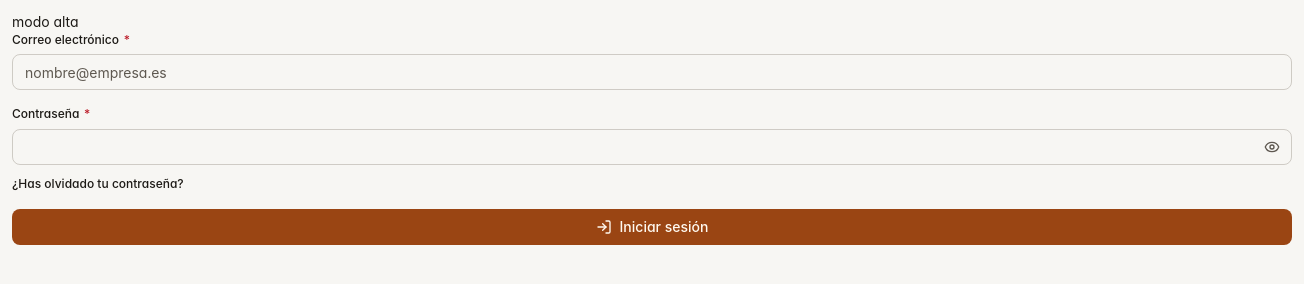
Test case: CredentialsForm — acceso › un correo mal formado se para en cliente
Type "no-es-un-correo" into the field with id "email" at {"x": 652, "y": 72}, box [12,54,1292,90]
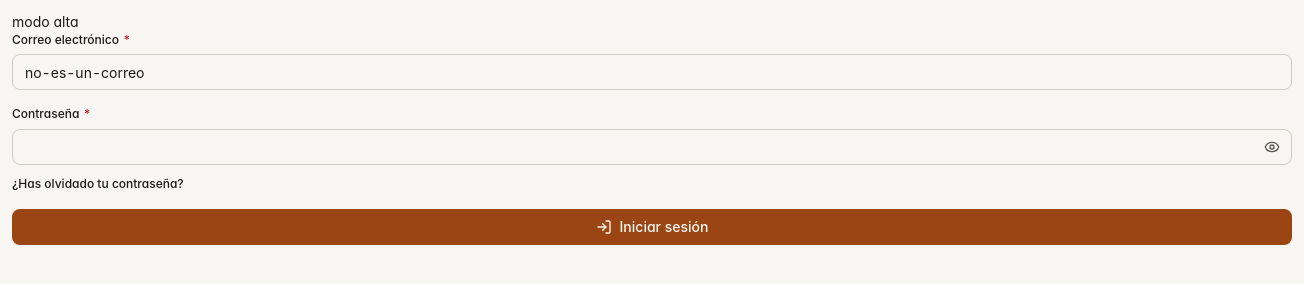
Type "loquesea" into the password field labelled "Contraseña*" at {"x": 652, "y": 147}, box [12,129,1292,165]
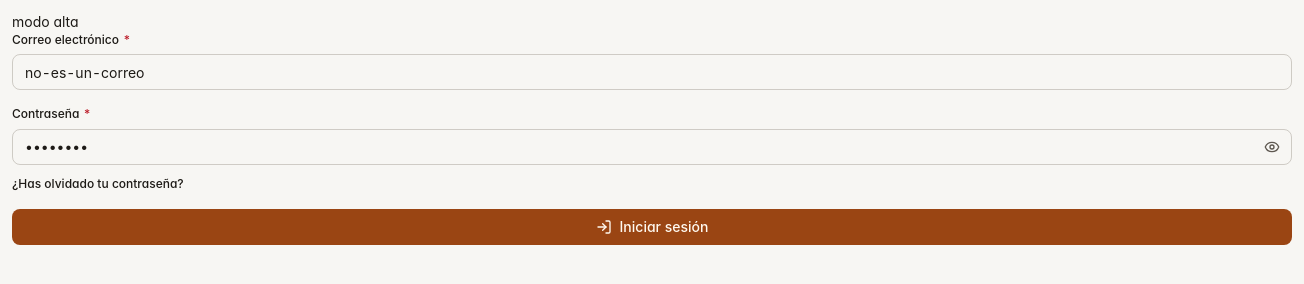
Click the button "Iniciar sesión" at {"x": 652, "y": 227}, box [12,209,1292,245]
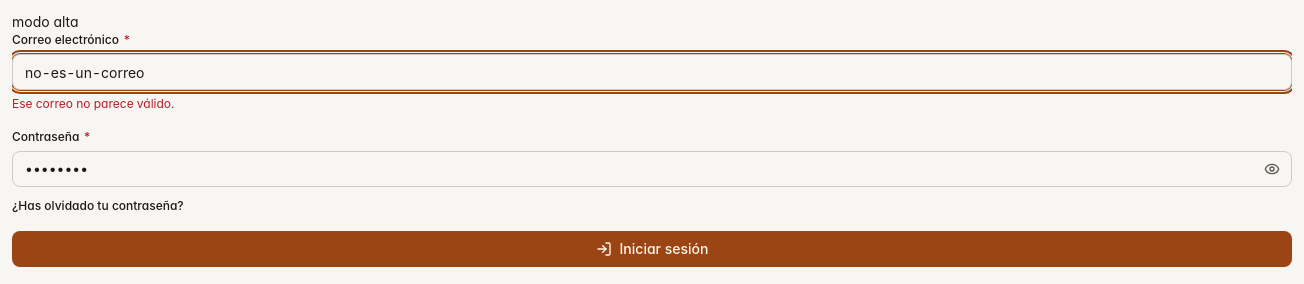
Expected: the text "Ese correo no parece válido." is shown, [12,96,174,112]
